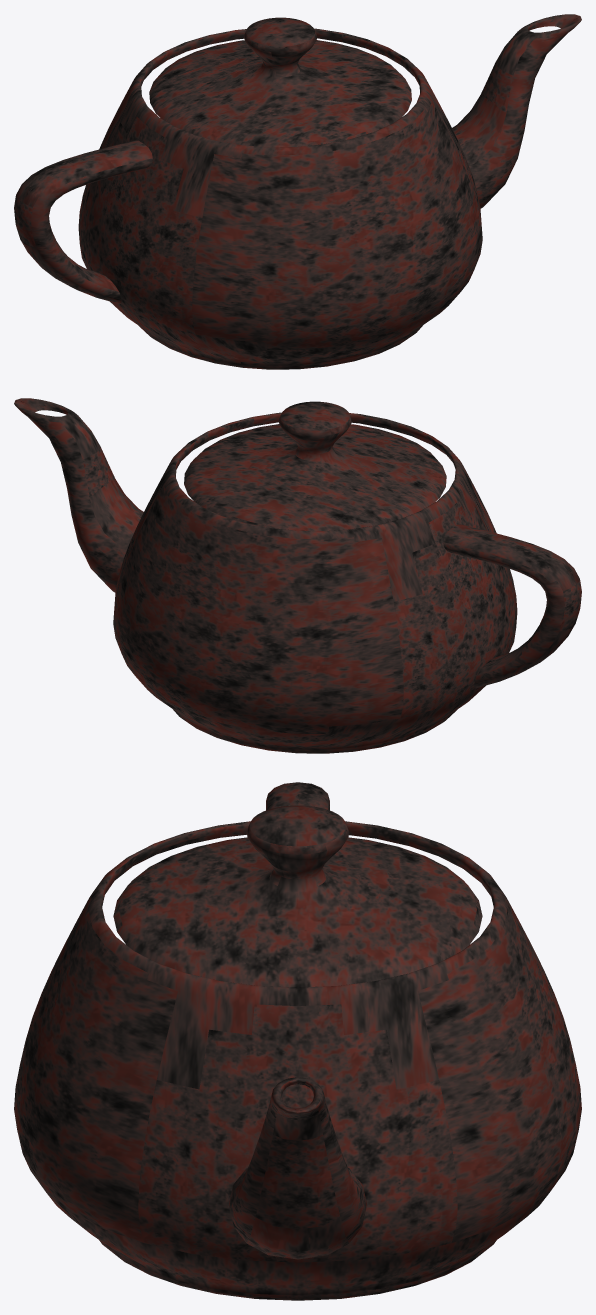
The picture shows the model from 3 angles, top to bottom: view 1: azimuth 30°, elevation 25°; view 2: azimuth 150°, elevation 25°; view 3: azimuth 270°, elevation 25°; orthographic projection. The views are drawn at different scales.
Visible parts, largest first — view 1: Teapot001; view 2: Teapot001; view 3: Teapot001.
Boxes of the visible parts, x1=… form: Teapot001: x1=14, y1=14, x2=581, y2=369; Teapot001: x1=14, y1=398, x2=581, y2=753; Teapot001: x1=14, y1=782, x2=581, y2=1300.
Bounding box in the file's own units: 0.772 × 0.378 × 0.48.
Materials: 1 (1 with a texture image).
